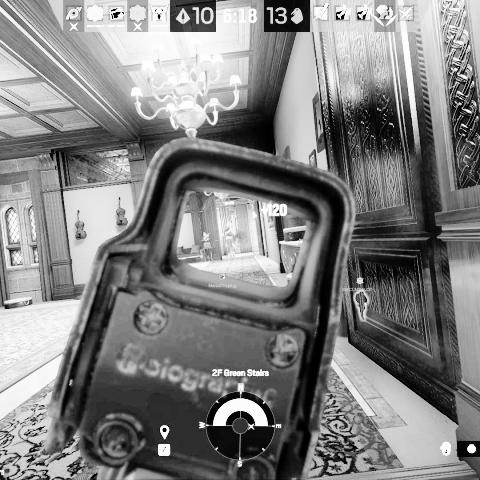Character: (221, 220, 238, 259)
Friend_label: (341, 275, 373, 293), (208, 272, 236, 290)
Head: (227, 221, 232, 228)
